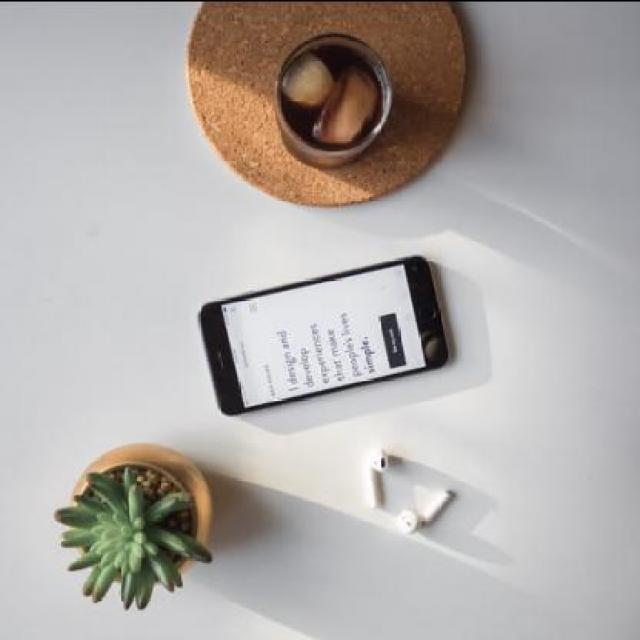phone: (201, 253, 452, 419)
